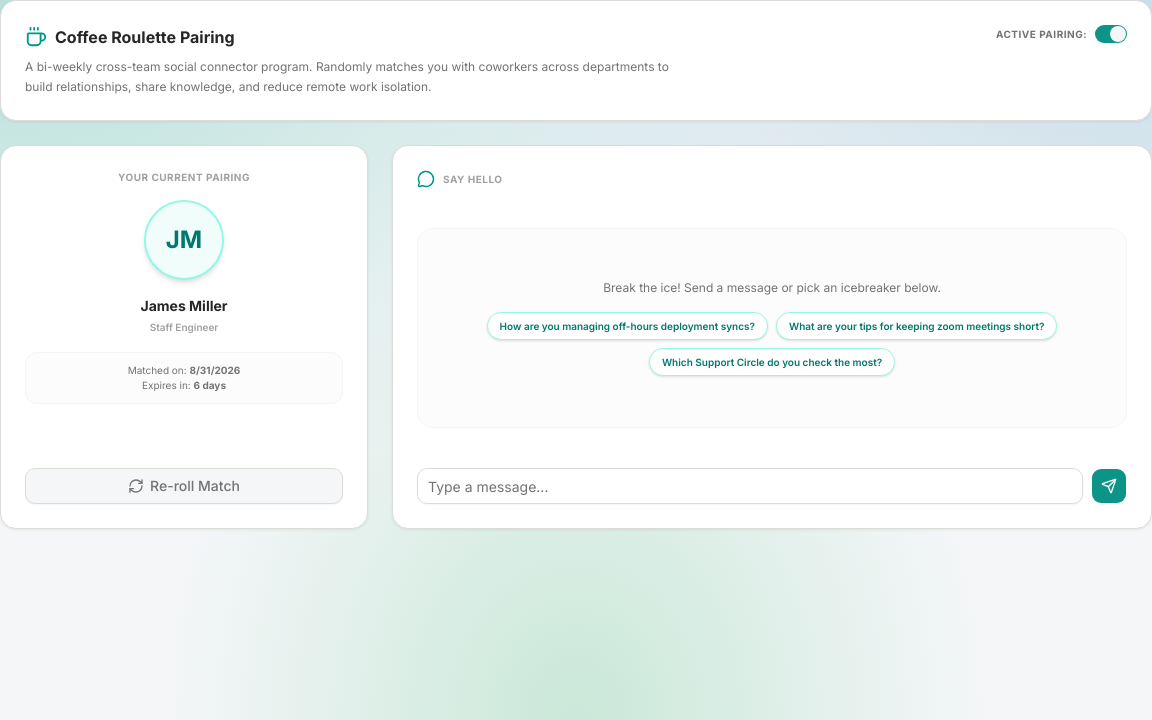
Test: CoffeeRoulette › sending a chat message adds it to the message list
Expected: the heading "James Miller" is shown, [140, 297, 228, 314]
In the field with placeholder "Type a message...": (750, 486) [417, 468, 1083, 504], type "Hey, how is it going?"
Then press Enter
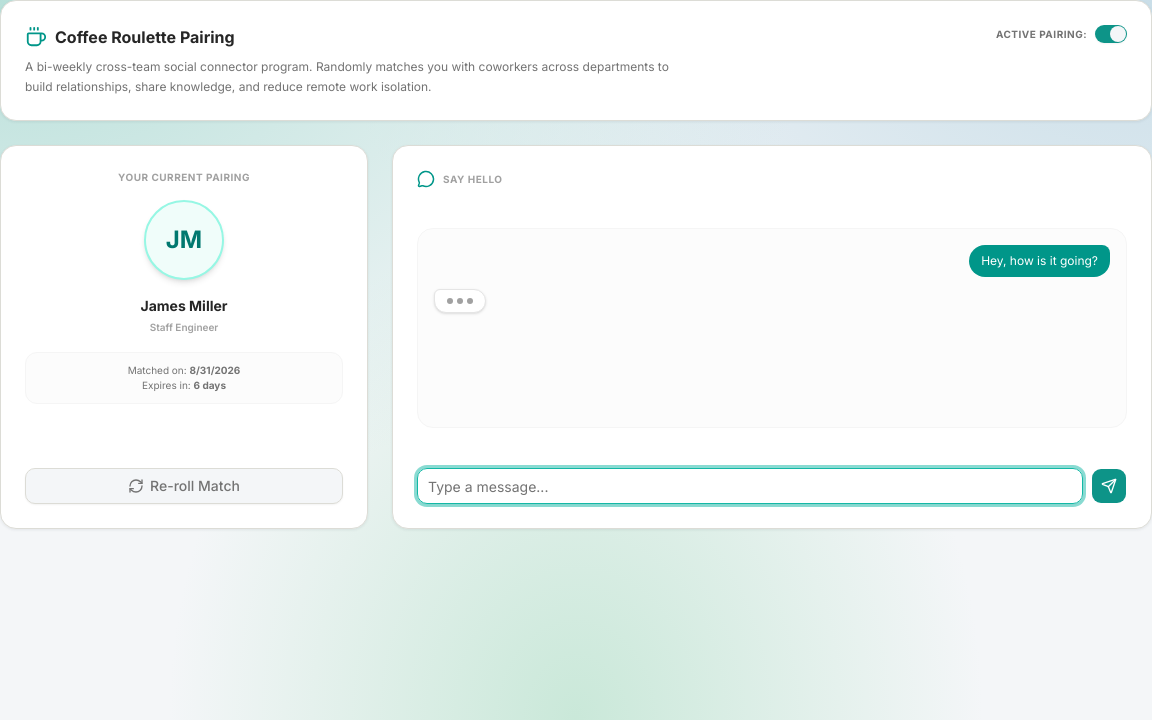
Result: the text "Hey, how is it going?" is shown at [969, 245, 1110, 277]
